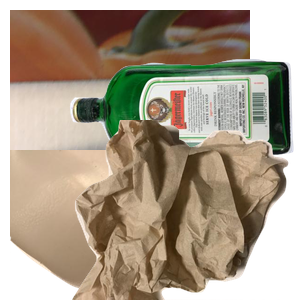cardboard: (10, 10, 250, 190)
glass: (67, 56, 300, 206)
plastic: (10, 150, 250, 300)
trash: (70, 120, 300, 300)
